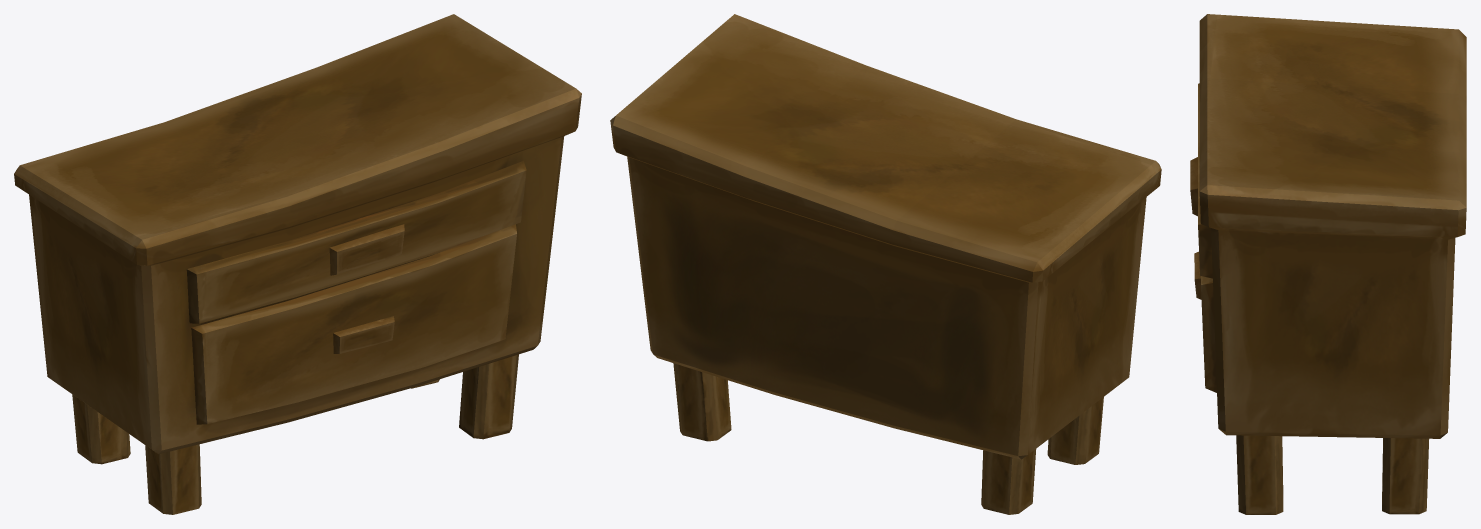
The model's file is drawers.FBX.
3 renders of one model, left to right at view 1: azimuth 30°, elevation 25°; view 2: azimuth 150°, elevation 25°; view 3: azimuth 270°, elevation 25°, orthographic. The views are drawn at different scales.
Visible parts, largest first — view 1: drawer; view 2: drawer; view 3: drawer.
Boxes of the visible parts, x1,y1,x2,y2 form: drawer: (14,14,581,514); drawer: (610,14,1161,514); drawer: (1190,14,1466,514).
Bounding box in the file's own units: 28.07 × 20.63 × 14.65.
